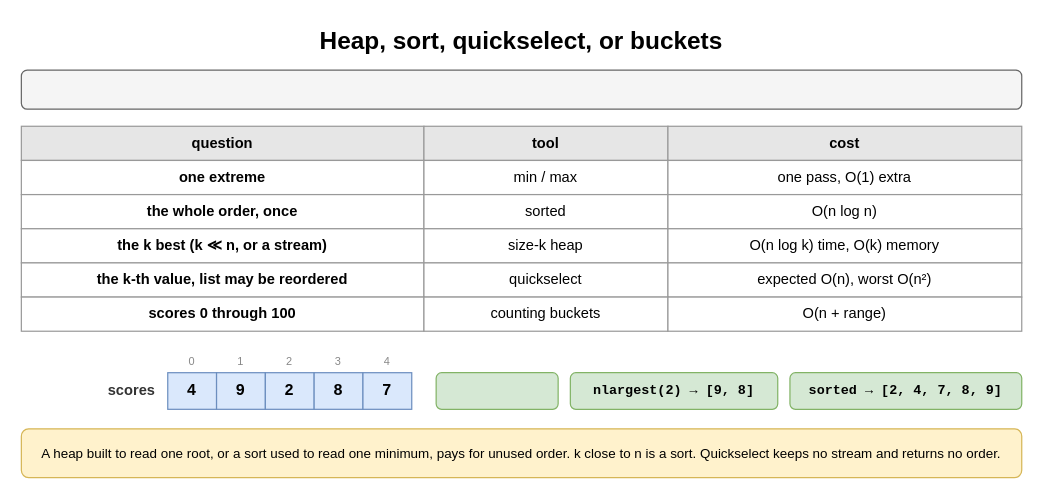
Image size: 1043x499. Some labels were removed from this diagram. Here are the shapes that lost their labels. From the top down, the centre of each, then its label:
point (521, 89): Pay only for the order the question asks for
point (496, 390): min → 2
